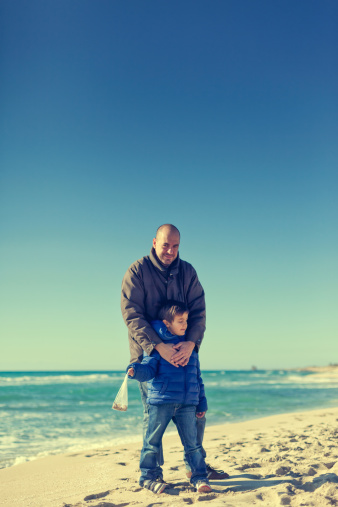em pe: (113, 215, 222, 499)
